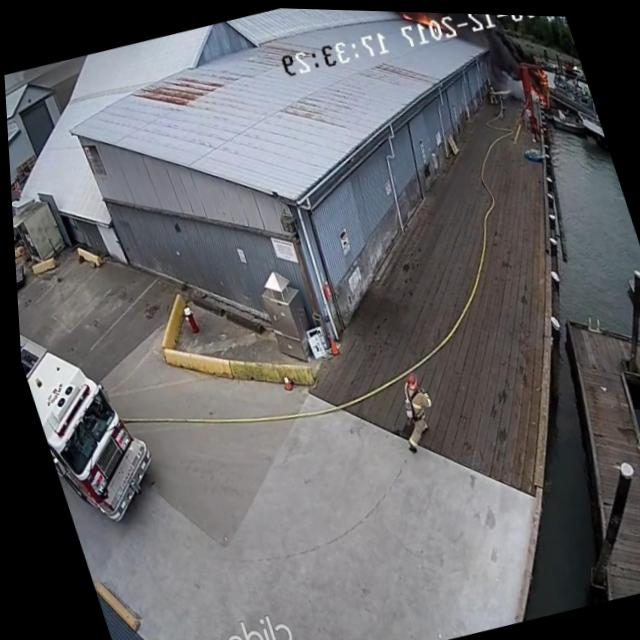fire: (522, 59, 556, 104)
